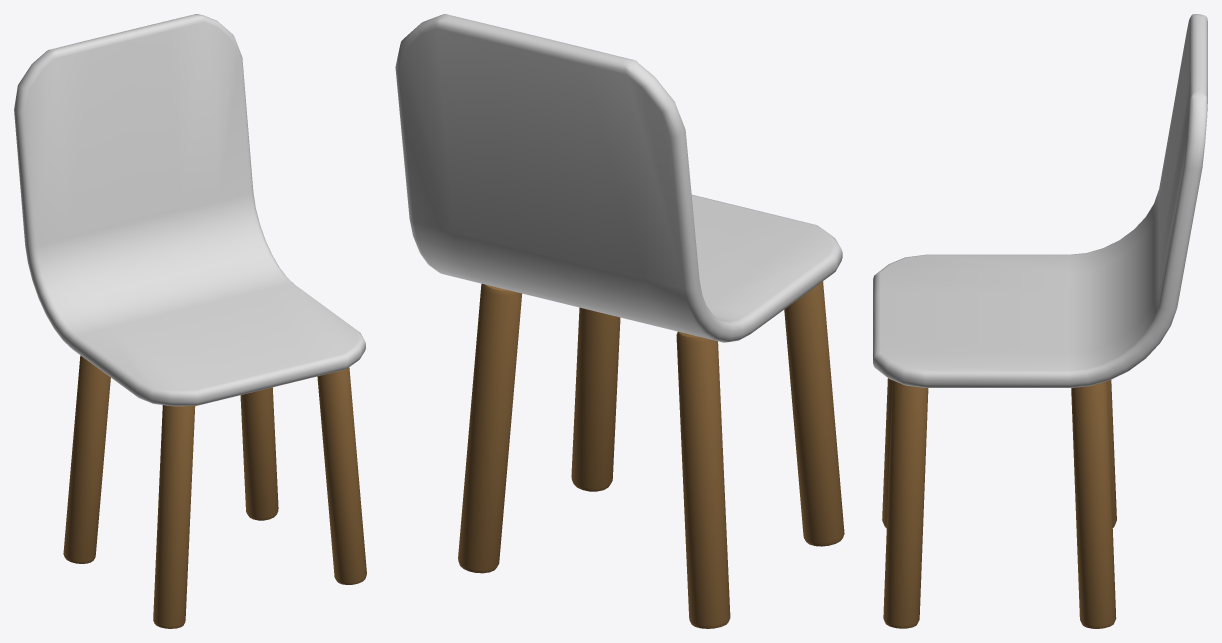
The model's file is Chair.fbx.
The picture shows the model from 3 angles, left to right: view 1: azimuth 30°, elevation 25°; view 2: azimuth 150°, elevation 25°; view 3: azimuth 270°, elevation 25°; orthographic projection. The views are drawn at different scales.
Parts seen in each view (by area): view 1: Chair, Chair.003, Cylinder.002, Chair.004, Cylinder.003; view 2: Chair, Chair.004, Cylinder.003, Chair.003, Cylinder.002; view 3: Chair, Cylinder.003, Cylinder.002, Chair.003, Chair.004.
Boxes of the visible parts, x1=… form: Chair: x1=14, y1=14, x2=365, y2=406; Chair.003: x1=153, y1=405, x2=195, y2=628; Cylinder.002: x1=317, y1=367, x2=366, y2=584; Chair.004: x1=63, y1=355, x2=110, y2=563; Cylinder.003: x1=240, y1=387, x2=278, y2=520; Chair: x1=395, y1=14, x2=842, y2=342; Chair.004: x1=676, y1=331, x2=730, y2=628; Cylinder.003: x1=458, y1=284, x2=521, y2=573; Chair.003: x1=784, y1=281, x2=844, y2=546; Cylinder.002: x1=571, y1=307, x2=620, y2=491; Chair: x1=873, y1=14, x2=1207, y2=387; Cylinder.003: x1=1071, y1=381, x2=1116, y2=628; Cylinder.002: x1=883, y1=380, x2=928, y2=628; Chair.003: x1=882, y1=378, x2=892, y2=527; Chair.004: x1=1107, y1=380, x2=1116, y2=527.
Size of the model in its own units: 200 by 402 by 233.
